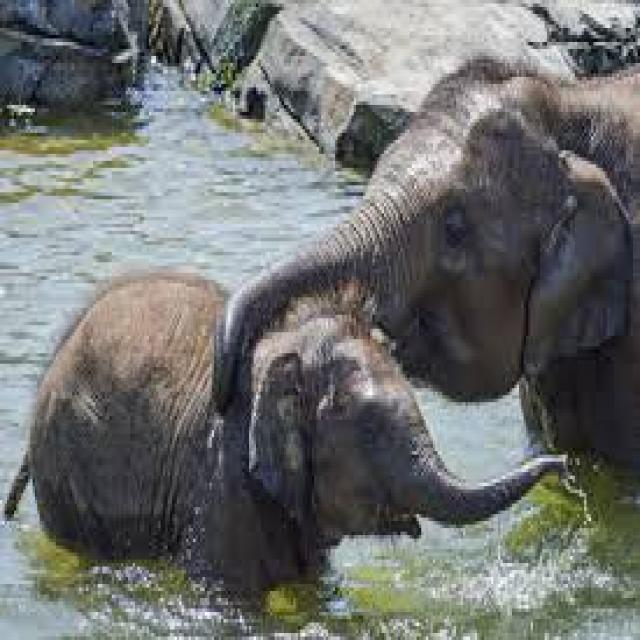Elephant: (2, 262, 570, 612)
